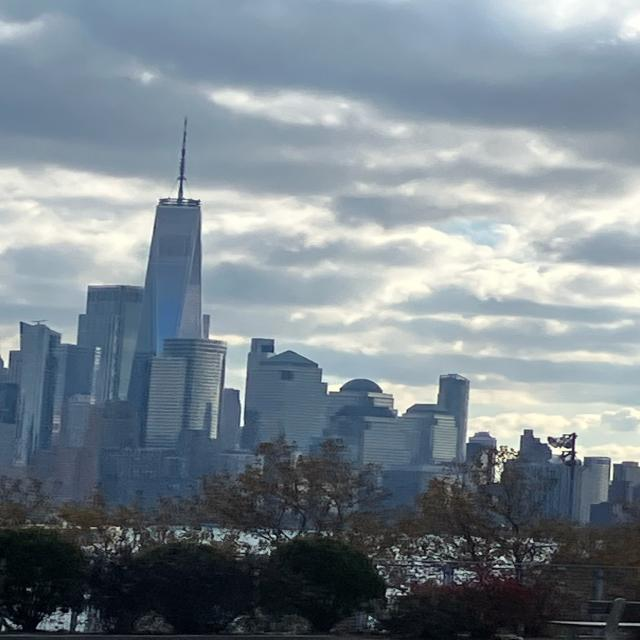WTC: (138, 118, 205, 340)
